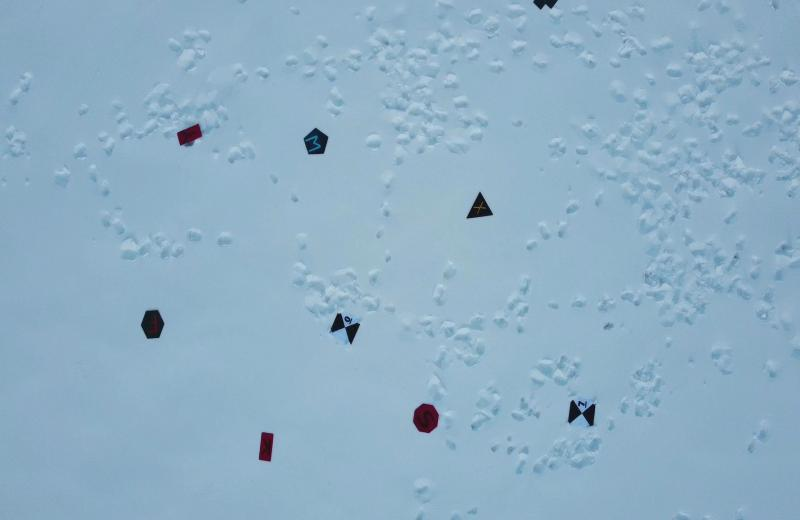Cross: (533, 0, 559, 11)
Hexagon: (137, 306, 168, 343)
Octagon: (409, 400, 441, 435)
Pentagon: (301, 124, 331, 159)
Rectangle: (172, 121, 204, 151), (256, 429, 276, 466)
Triangle: (463, 183, 495, 226)
